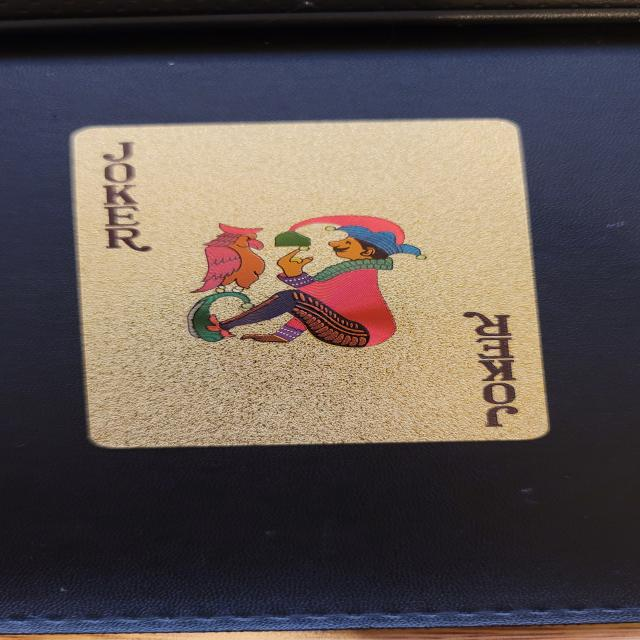Joker: (67, 117, 550, 449)
